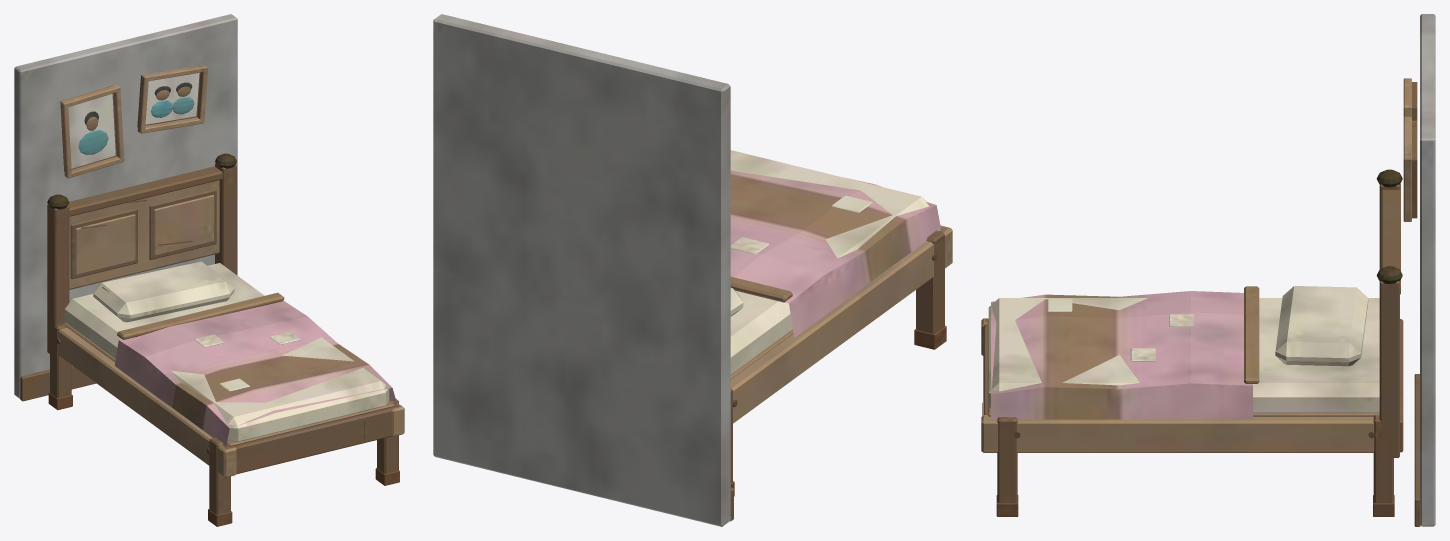
File: A08_mother_s_bed_with_photos.glb
The picture shows the model from 3 angles, left to right: view 1: azimuth 30°, elevation 25°; view 2: azimuth 150°, elevation 25°; view 3: azimuth 270°, elevation 25°; orthographic projection. The views are drawn at different scales.
Visible parts, largest first — view 1: Square timber leg; view 2: Square timber leg; view 3: Square timber leg.
Boxes of the visible parts, bbox=[...] form: Square timber leg: bbox=[14, 14, 404, 526]; Square timber leg: bbox=[433, 14, 952, 526]; Square timber leg: bbox=[981, 14, 1435, 526].
Size of the model in its own units: 1.31 by 1.89 by 2.
Materials: 12 (12 with a texture image).
